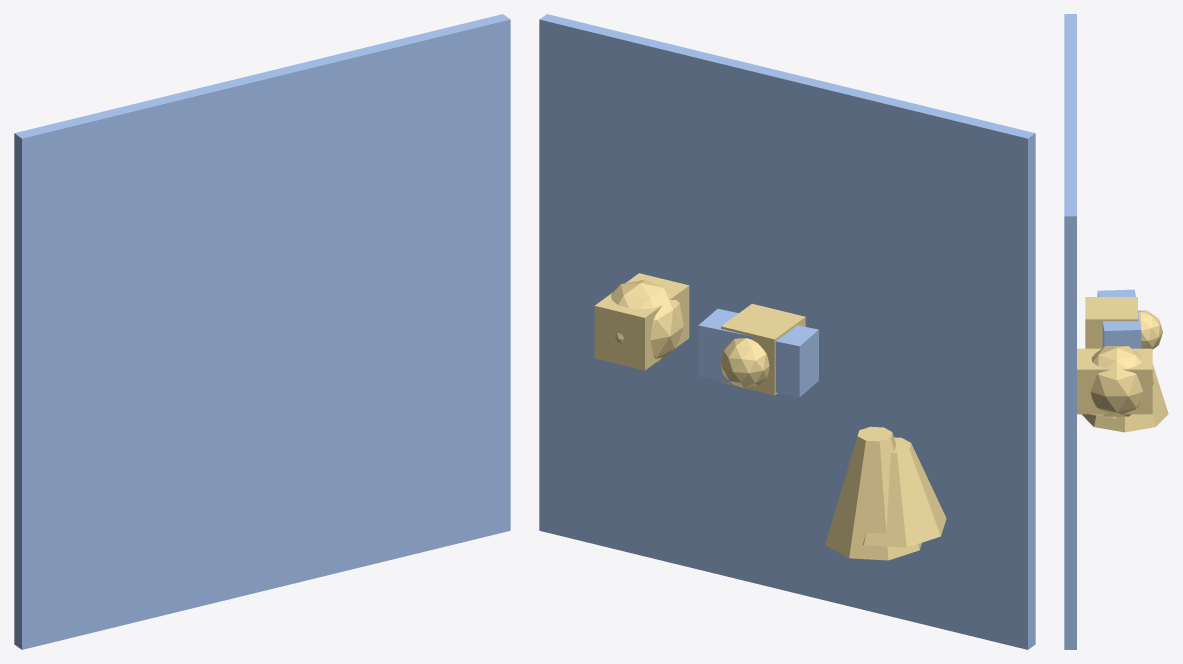
File: flappy-ascent-kit.glb
The picture shows the model from 3 angles, left to right: view 1: azimuth 30°, elevation 25°; view 2: azimuth 150°, elevation 25°; view 3: azimuth 270°, elevation 25°; orthographic projection. The views are drawn at different scales.
Visible parts, largest first — view 1: ENVIRONMENT_GROUND; view 2: ENVIRONMENT_GROUND, PROFILE_ENVIRONMENT_DETAIL, ENVIRONMENT_LANDMARK, PLAYER_BODY, PROFILE_OBSTACLE_DETAIL, OBSTACLE, PROFILE_PLAYER_DETAIL, PLAYER_CORE; view 3: ENVIRONMENT_GROUND, OBSTACLE, PROFILE_OBSTACLE_DETAIL, PROFILE_PLAYER_DETAIL, PROFILE_ENVIRONMENT_DETAIL, PLAYER_BODY, PLAYER_CORE.
Boxes of the visible parts, x1,y1,x2,y2 form: ENVIRONMENT_GROUND: (14, 14, 510, 649); ENVIRONMENT_GROUND: (539, 14, 1035, 649); PROFILE_ENVIRONMENT_DETAIL: (825, 426, 921, 560); ENVIRONMENT_LANDMARK: (862, 437, 946, 547); PLAYER_BODY: (698, 308, 818, 397); PROFILE_OBSTACLE_DETAIL: (594, 273, 689, 370); OBSTACLE: (607, 279, 683, 361); PROFILE_PLAYER_DETAIL: (721, 303, 805, 395); PLAYER_CORE: (720, 338, 769, 388); ENVIRONMENT_GROUND: (1064, 14, 1076, 649); OBSTACLE: (1090, 346, 1153, 416); PROFILE_OBSTACLE_DETAIL: (1077, 348, 1152, 414); PROFILE_PLAYER_DETAIL: (1085, 297, 1137, 348); PROFILE_ENVIRONMENT_DETAIL: (1082, 364, 1168, 432); PLAYER_BODY: (1097, 289, 1141, 348); PLAYER_CORE: (1138, 310, 1162, 349).
Size of what is drawn, in the model's own units: 9 by 9 by 1.96.
